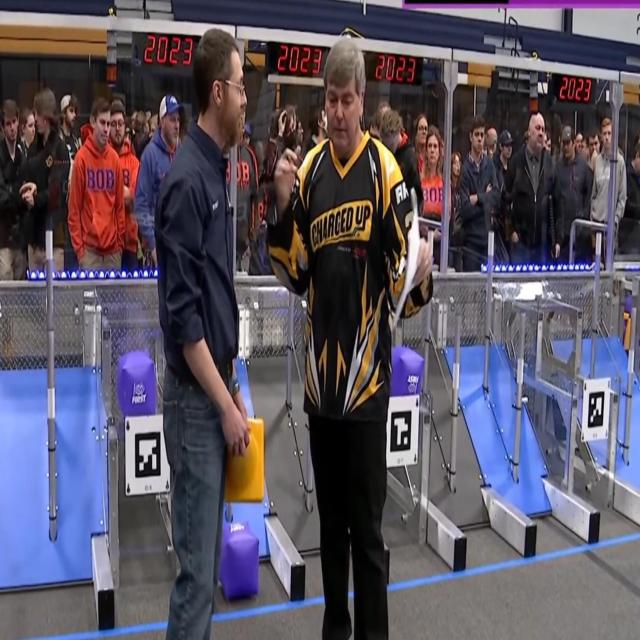frc_cone: (219, 418, 266, 502), (622, 315, 632, 350)
frc_cube: (218, 524, 259, 598), (118, 352, 153, 418), (389, 347, 424, 398), (624, 294, 634, 314)
